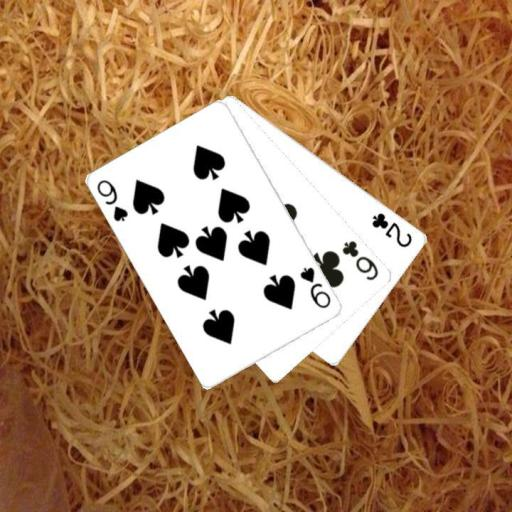2C: (369, 209, 415, 250)
6C: (340, 237, 381, 282)
9S: (296, 264, 333, 310), (94, 177, 130, 224)
